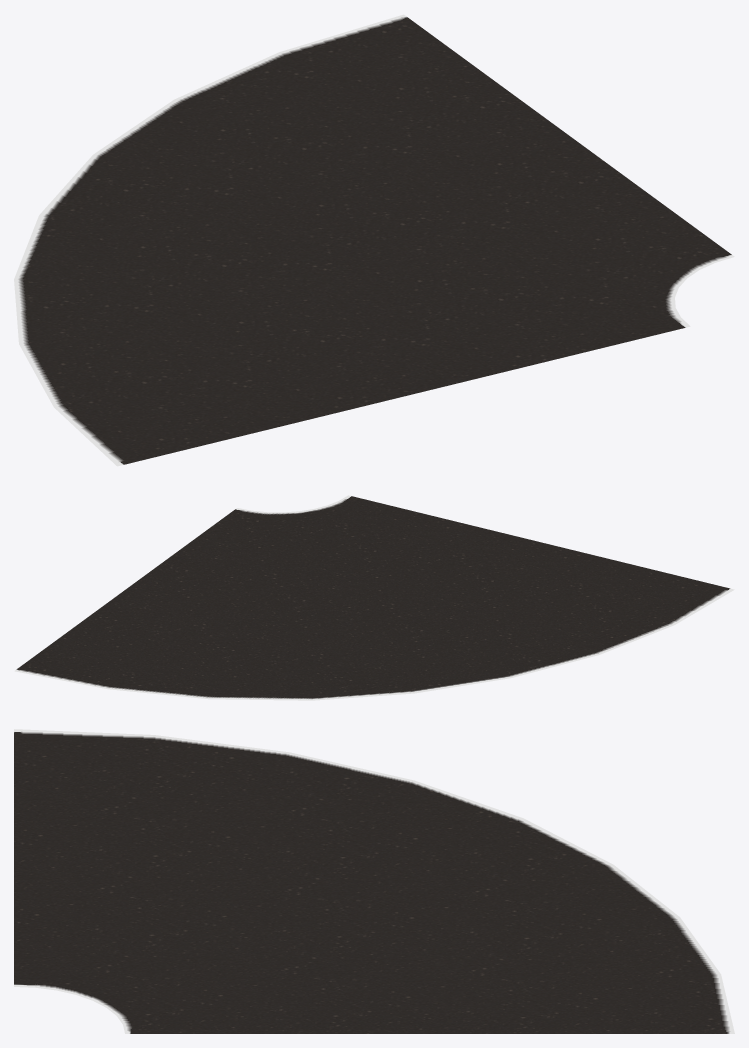
The model's file is Small_Right_Turn.obj.
3 views of the same model, one above another, from view 1: azimuth 30°, elevation 25°; view 2: azimuth 150°, elevation 25°; view 3: azimuth 270°, elevation 25° (orthographic). The views are drawn at different scales.
Parts seen in each view (by area): view 1: Plane01; view 2: Plane01; view 3: Plane01.
Boxes of the visible parts, bbox=[...] form: Plane01: bbox=[14, 14, 734, 466]; Plane01: bbox=[14, 495, 734, 700]; Plane01: bbox=[14, 729, 734, 1033].
Bounding box in the file's own units: 8.27 × 0 × 8.27.
